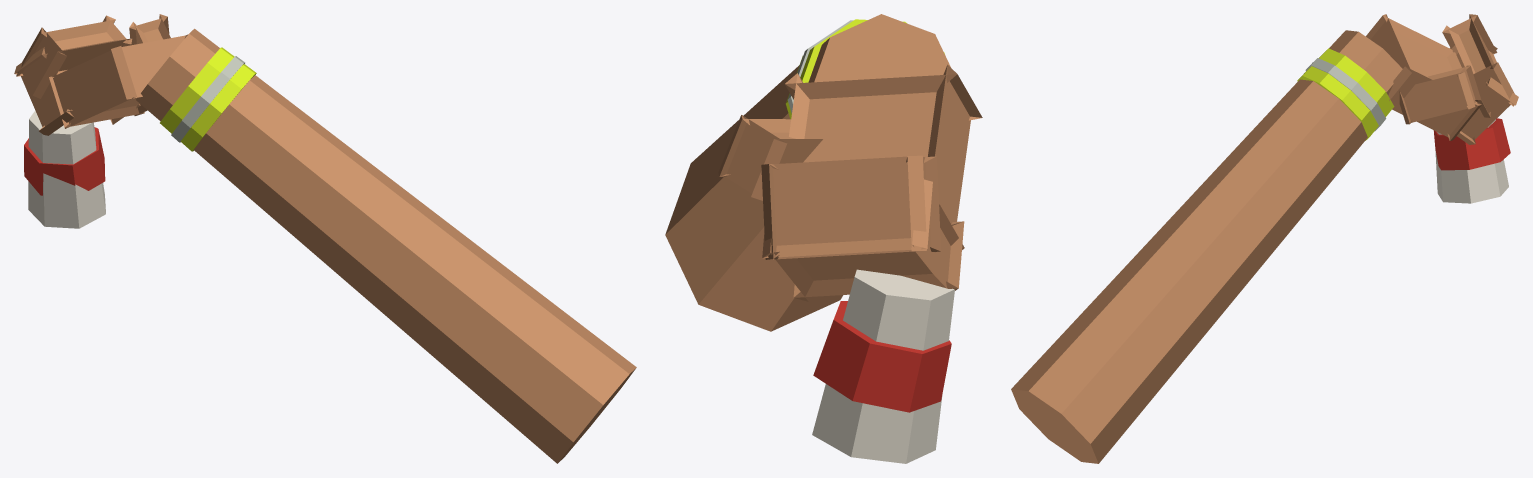
File: lwf_fp_arm_right_litter_v1.glb
3 renders of one model, left to right at view 1: azimuth 30°, elevation 25°; view 2: azimuth 150°, elevation 25°; view 3: azimuth 270°, elevation 25°, orthographic. The views are drawn at different scales.
Visible parts, largest first — view 1: LWF_FPArm_Right_Litter, LWF_FPLitterCup; view 2: LWF_FPArm_Right_Litter, LWF_FPLitterCup; view 3: LWF_FPArm_Right_Litter, LWF_FPLitterCup.
Boxes of the visible parts, box(x1,y1,x2,y2) form: LWF_FPArm_Right_Litter: box(14, 14, 636, 463); LWF_FPLitterCup: box(24, 110, 105, 228); LWF_FPArm_Right_Litter: box(665, 14, 982, 331); LWF_FPLitterCup: box(812, 269, 954, 463); LWF_FPArm_Right_Litter: box(1011, 14, 1518, 463); LWF_FPLitterCup: box(1433, 118, 1510, 203).
Size of the model in its own units: 0.3497 by 0.317 by 0.4398.
